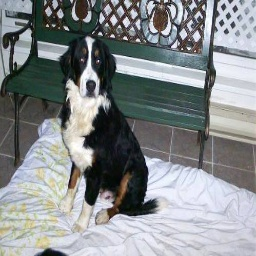dog: (49, 34, 166, 230)
